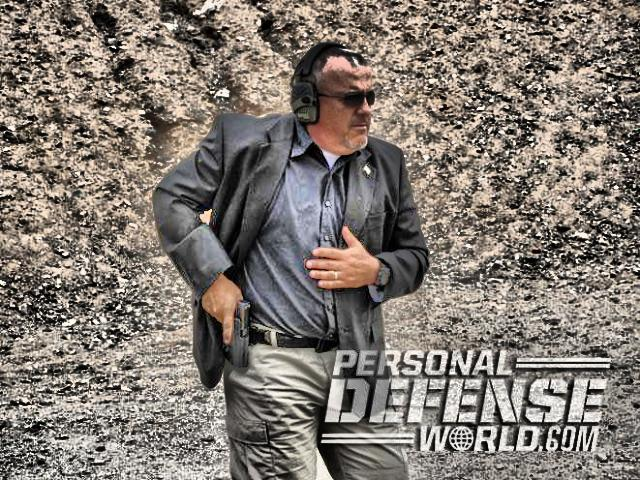pistol: (213, 296, 250, 370)
